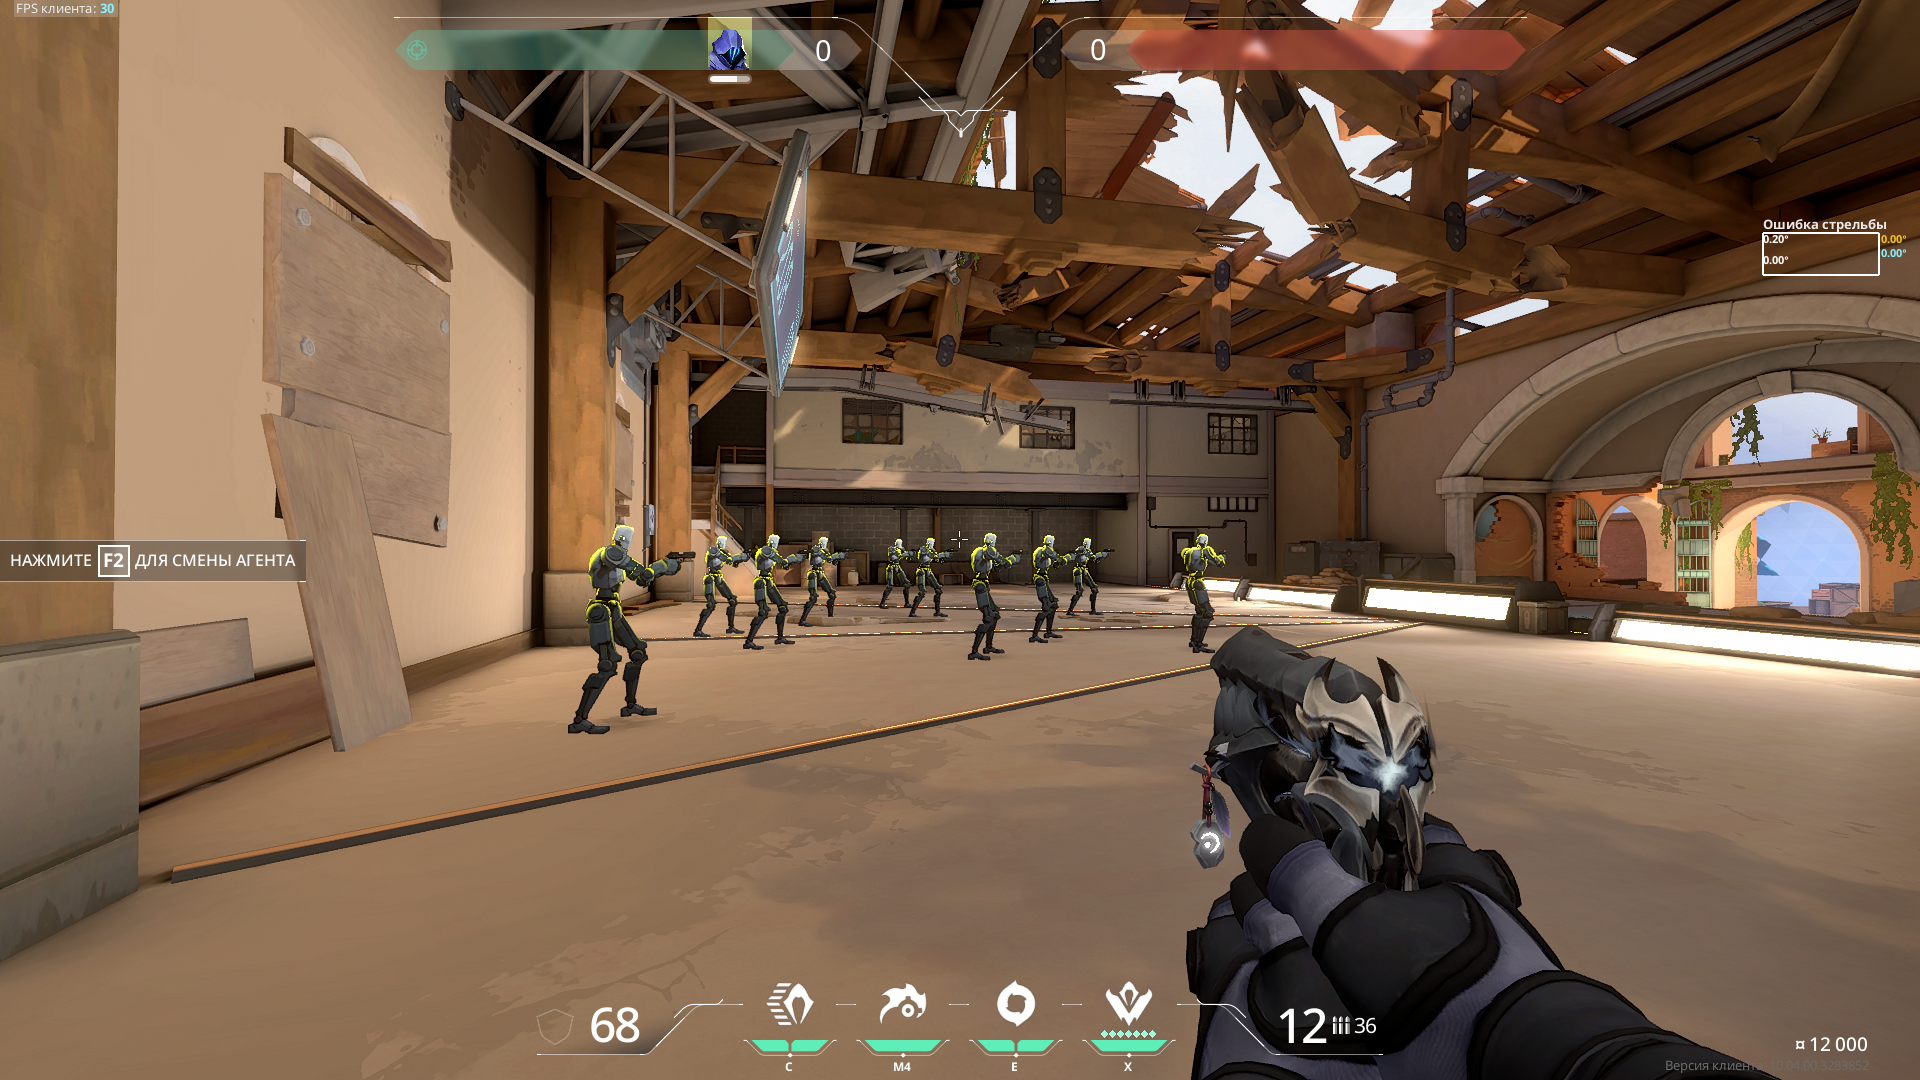head: (612, 525, 634, 550), (767, 534, 780, 549), (984, 533, 997, 547), (1196, 534, 1208, 547), (1043, 535, 1055, 547), (717, 536, 727, 548), (819, 537, 828, 549), (926, 538, 935, 548), (1083, 538, 1091, 548), (895, 539, 903, 548)
